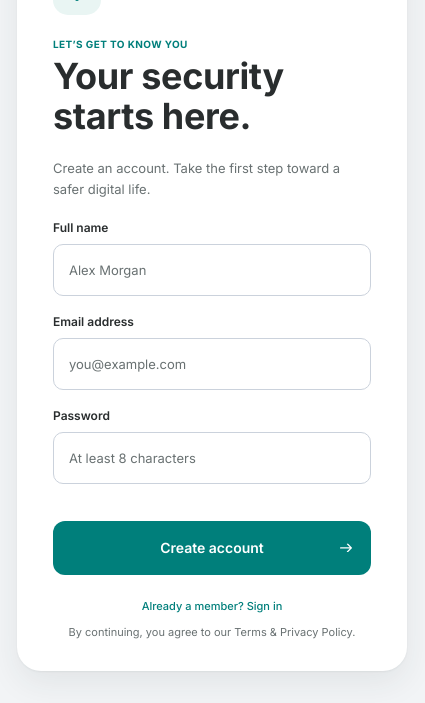
Test: Create account screen › checks the form before sending anything
(page scrolled)
Step 1. Click the button "Create account" → (212, 548), box x1=53 y1=521 x2=371 y2=575
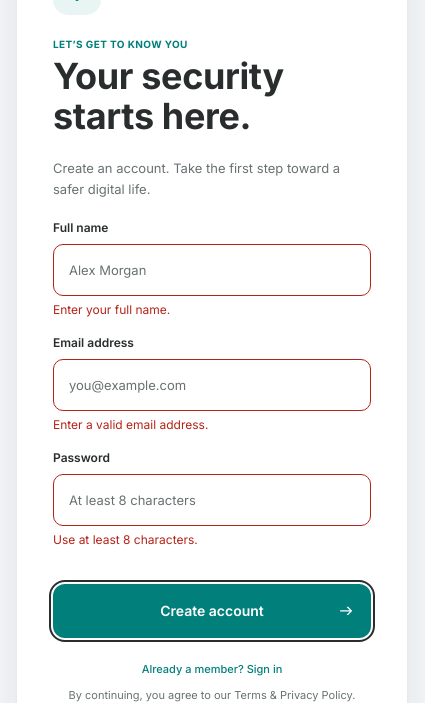
Check: the text "Enter your full name." is shown, box x1=53 y1=302 x2=170 y2=317
Check: the text "Enter a valid email address." is shown, box x1=53 y1=417 x2=208 y2=432
Check: the text "Use at least 8 characters." is shown, box x1=53 y1=532 x2=198 y2=547
